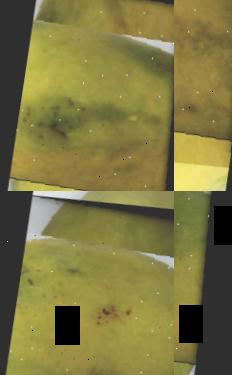PartiallyRipe: (0, 191, 174, 375), (174, 191, 232, 375)
Ripe: (1, 0, 174, 191), (174, 0, 232, 176)
